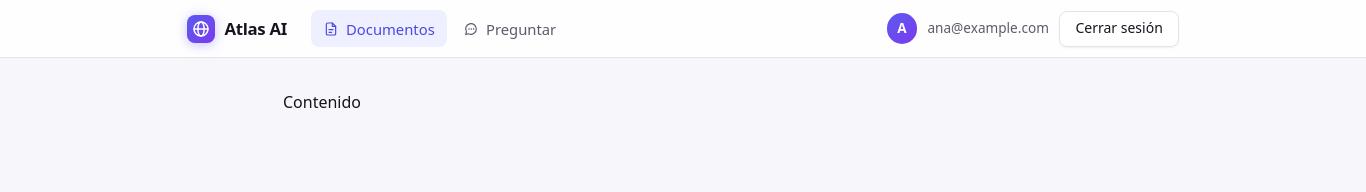
Test: ruta privada › si el cierre de sesión falla, sigue dentro y lo dice
Click the button "Cerrar sesión": (1119, 29) [1059,11,1179,47]
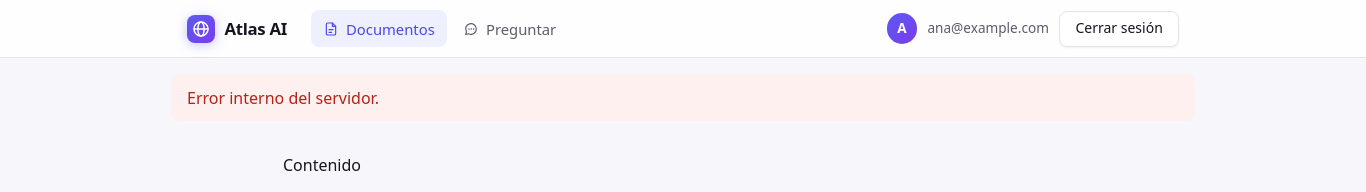
Expected: the text "Contenido" is shown, [283,154,361,176]
Now the message reads "Error interno del servidor.", box [187,86,379,108]
